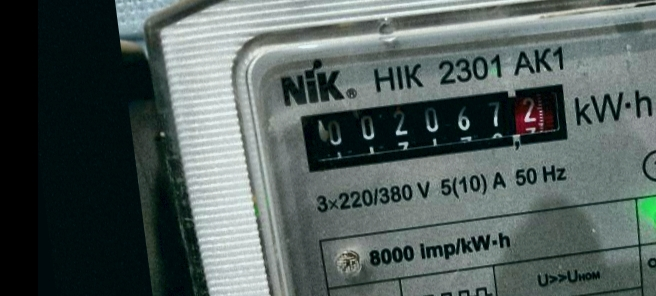0: (324, 115, 346, 146), (420, 100, 442, 130), (358, 109, 378, 139)
2: (519, 91, 540, 122), (391, 104, 411, 135)
6: (453, 99, 475, 130)
7: (486, 95, 506, 127)
screen: (286, 66, 586, 184)
